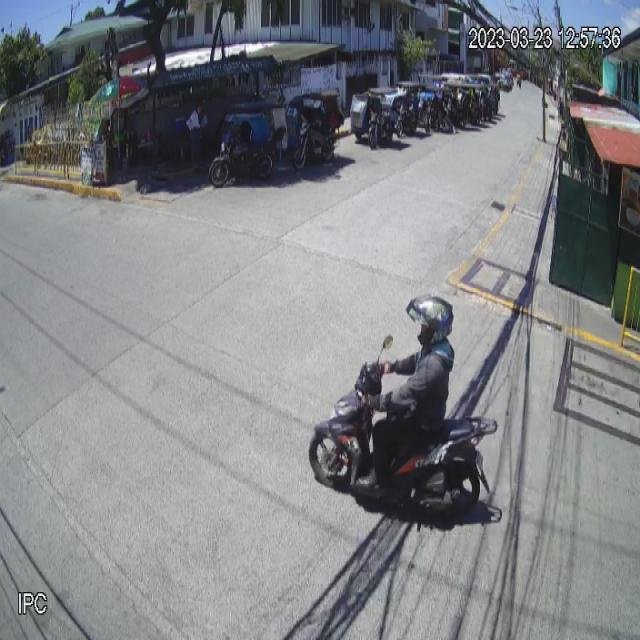Motorcycle: (307, 333, 499, 525)
